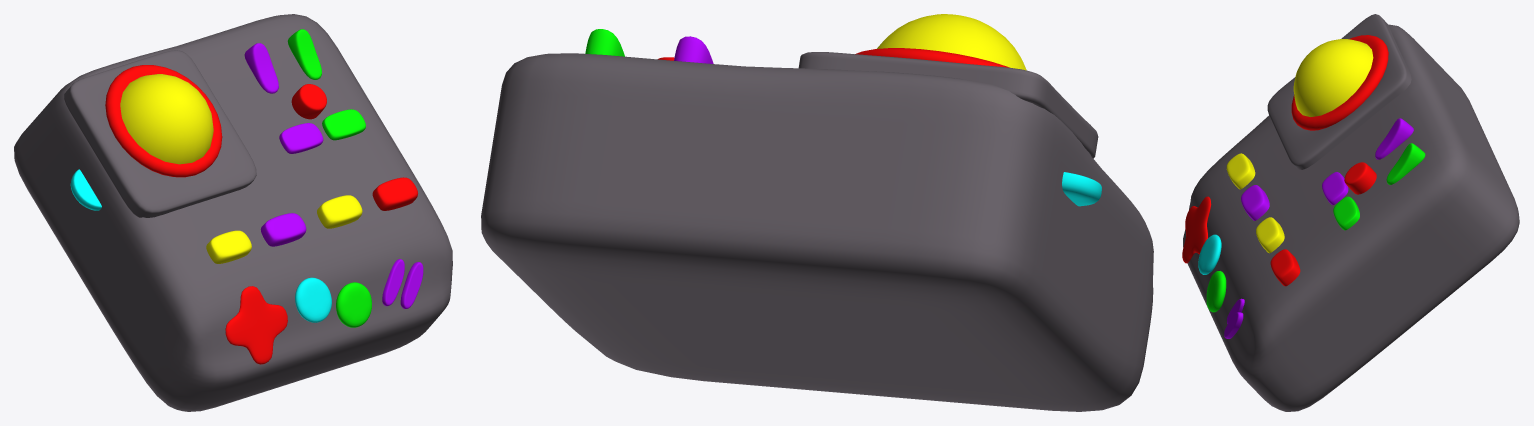
The model's file is Trackball.fbx.
3 views of the same model, side by side, from view 1: azimuth 30°, elevation 25°; view 2: azimuth 150°, elevation 25°; view 3: azimuth 270°, elevation 25° (orthographic). The views are drawn at different scales.
Visible parts, largest first — view 1: pDisc4, pCube3, pSphere1; view 2: pDisc4, pCube3, pSphere1; view 3: pDisc4, pCube3, pSphere1.
Boxes of the visible parts, x1,y1,x2,y2 form: pDisc4: [14, 14, 452, 411]; pCube3: [64, 50, 256, 217]; pSphere1: [120, 74, 213, 164]; pDisc4: [481, 29, 1153, 411]; pCube3: [798, 48, 1098, 158]; pSphere1: [877, 14, 1026, 70]; pDisc4: [1182, 24, 1519, 411]; pCube3: [1267, 14, 1411, 169]; pSphere1: [1293, 39, 1373, 116].
Bounding box in the file's own units: 343 × 280 × 315.
